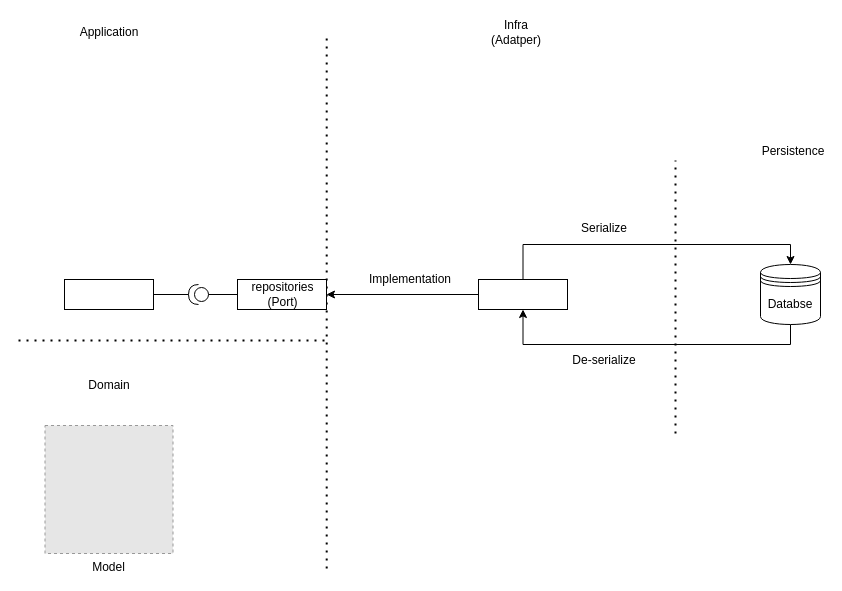
Some shapes in this 842 by 591 pixel diagram are drawn without their labels. Grey dashed boxes stand in for pictures. The shapes that lost their labels are listed below. From the top down, each one's centre as x and y in pixels, then its label:
At point 109,294: "service (Use Cases)".
At point 523,294: "repositories (Adapter)".
